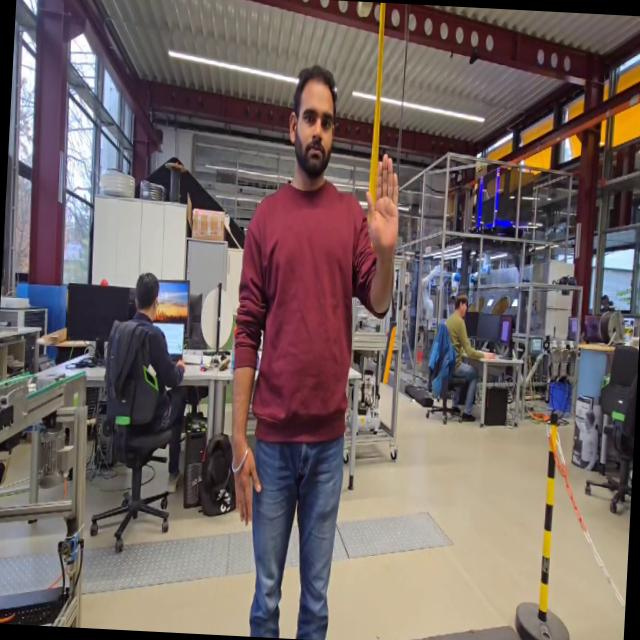open_palm: (359, 148, 406, 262)
